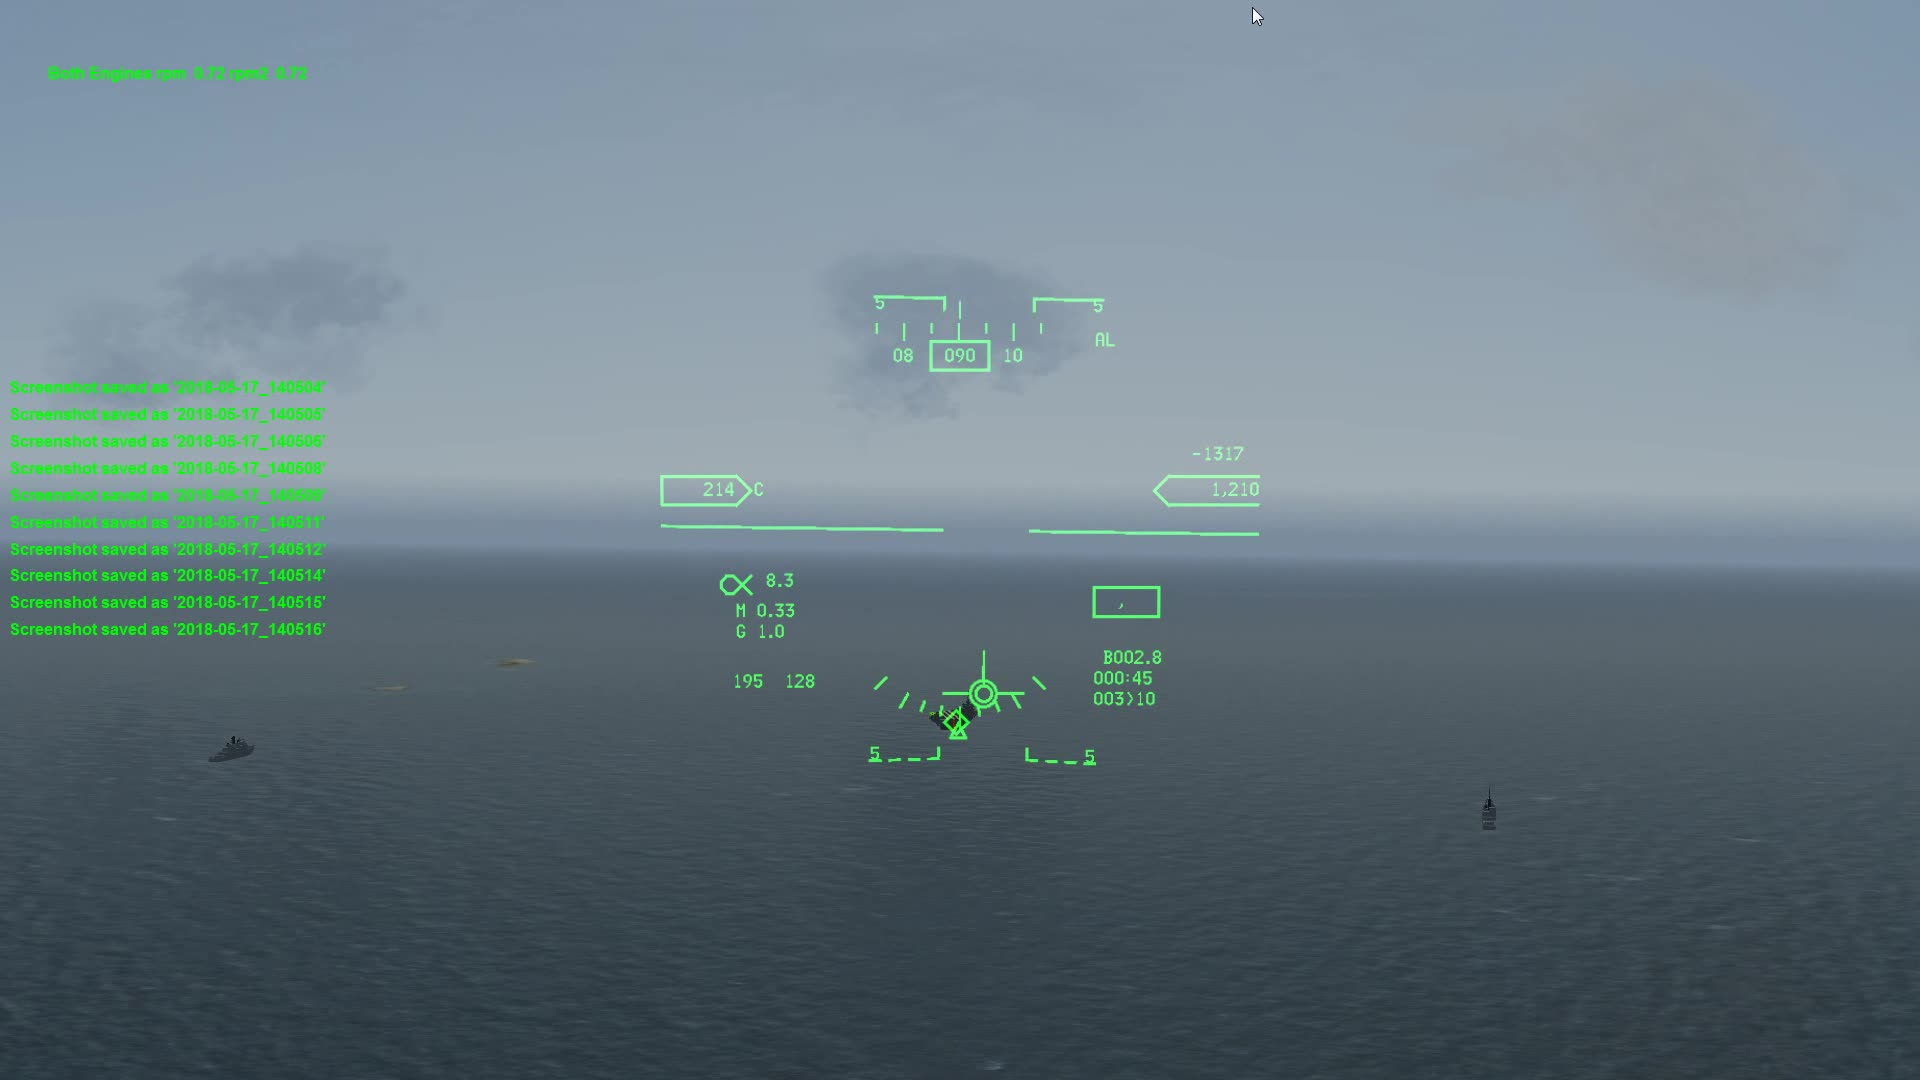speed vector: (949, 628, 1015, 716)
